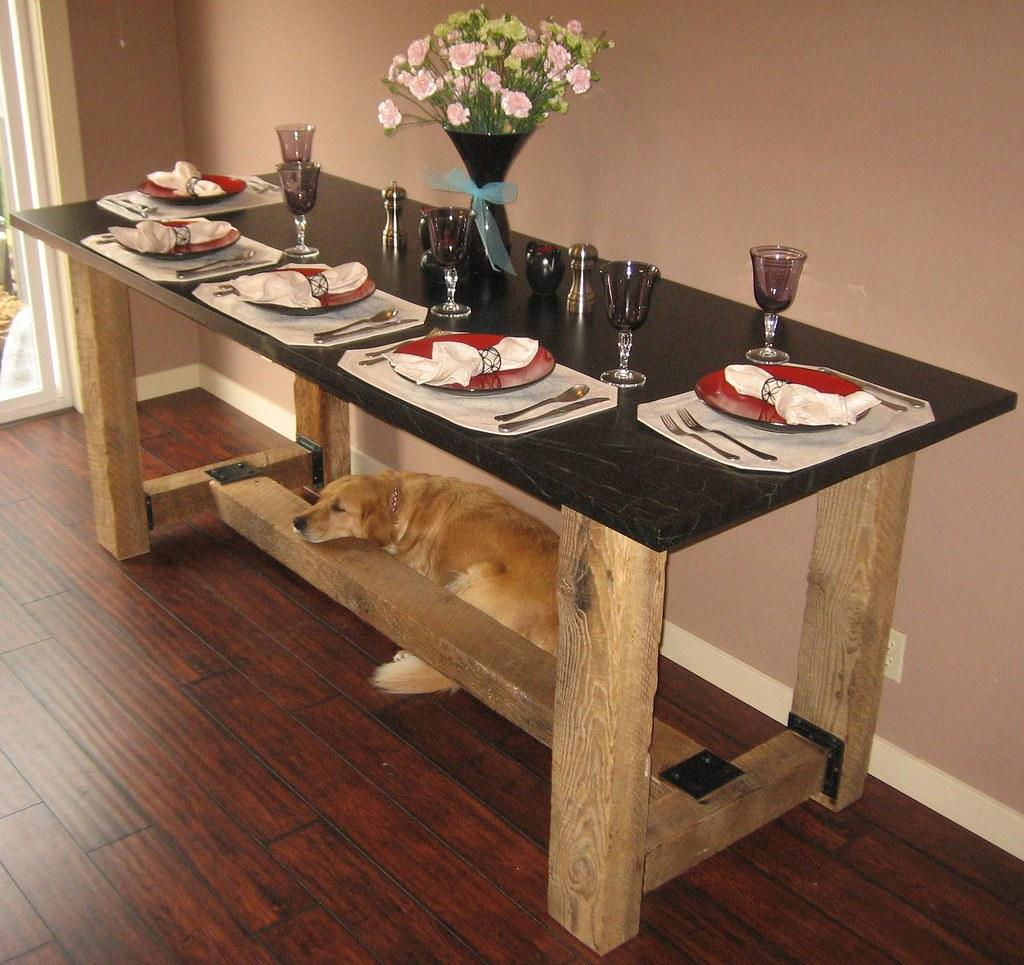table: (9, 162, 1018, 956)
